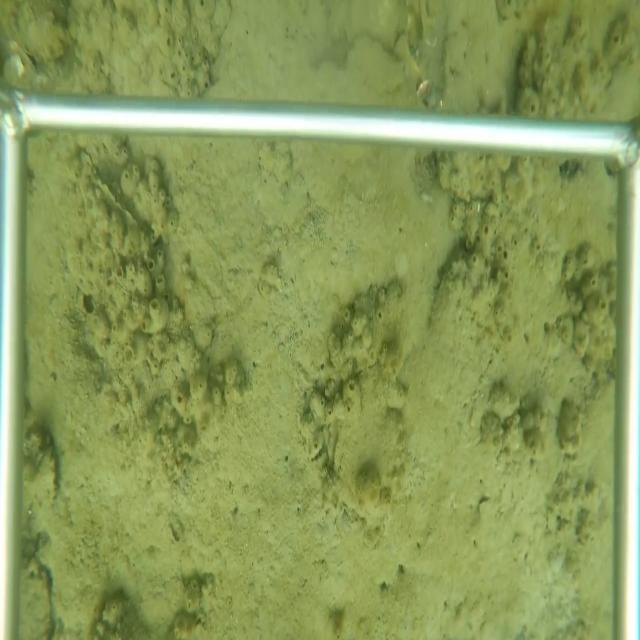Oyster-Closed: (72, 144, 149, 236), (24, 422, 62, 516)
Oyster-Indeterminate: (328, 367, 408, 524), (342, 31, 407, 92), (20, 553, 53, 639)
